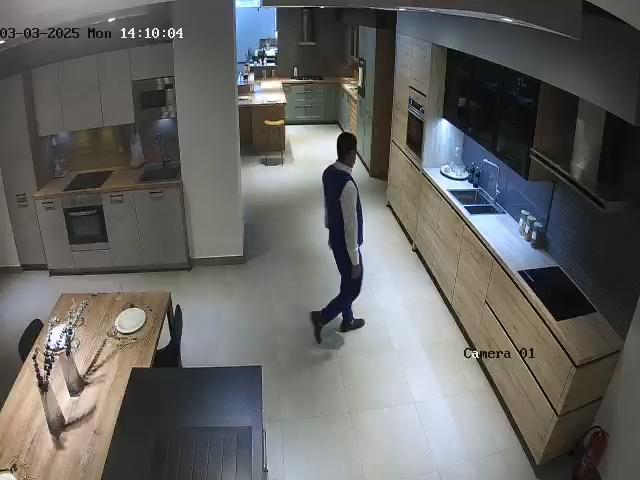employee: (310, 131, 366, 344)
